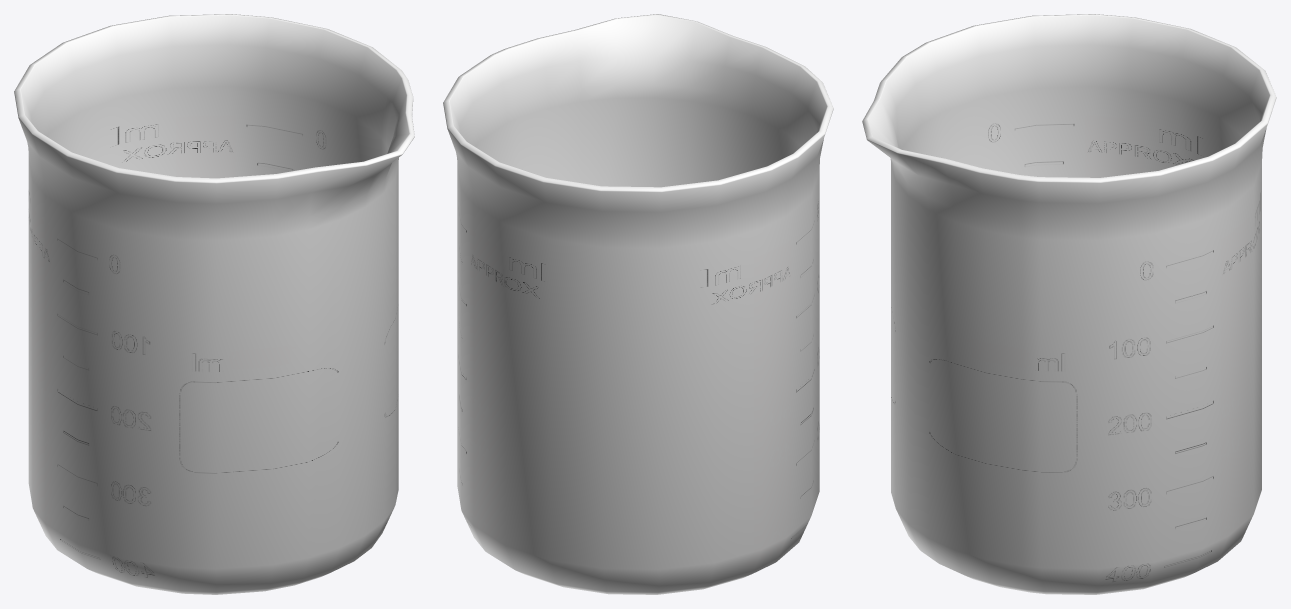
Rendered from chemical_beaker_100ml.FBX.
The picture shows the model from 3 angles, left to right: view 1: azimuth 30°, elevation 25°; view 2: azimuth 150°, elevation 25°; view 3: azimuth 270°, elevation 25°; orthographic projection. The views are drawn at different scales.
Visible parts, largest first — view 1: chemical_beaker_100ml; view 2: chemical_beaker_100ml; view 3: chemical_beaker_100ml.
Boxes of the visible parts, bbox=[...] form: chemical_beaker_100ml: bbox=[14, 14, 414, 594]; chemical_beaker_100ml: bbox=[443, 14, 833, 594]; chemical_beaker_100ml: bbox=[862, 14, 1276, 594].
Bounding box in the file's own units: 4.75 × 5.74 × 4.95.
1 material, 1 textured.
